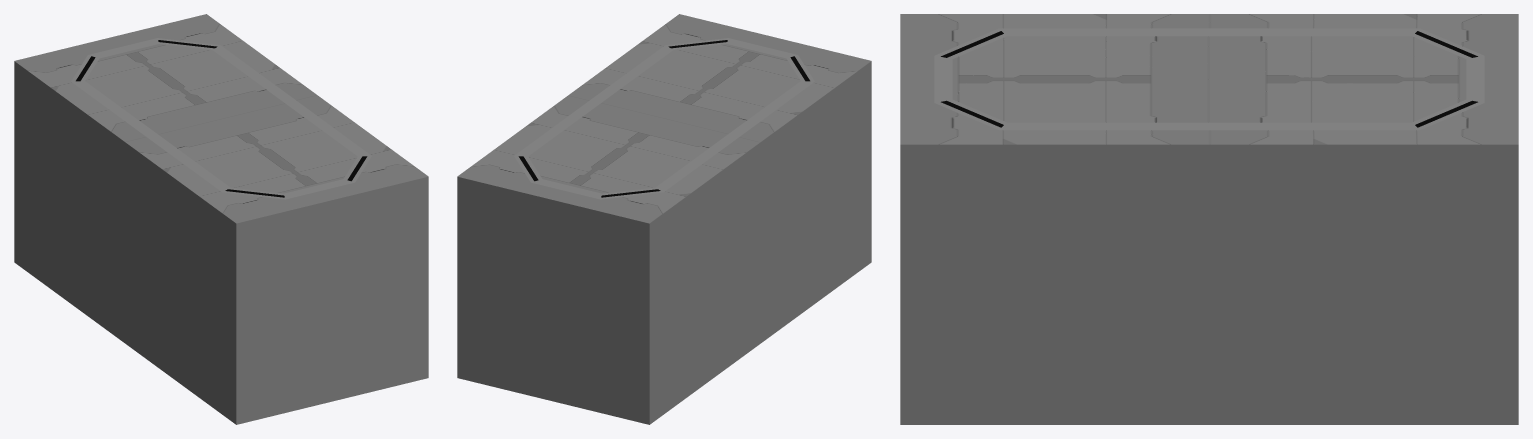
File: SM_Floor_5x10_3.fbx
3 views of the same model, side by side, from view 1: azimuth 30°, elevation 25°; view 2: azimuth 150°, elevation 25°; view 3: azimuth 270°, elevation 25° (orthographic). The views are drawn at different scales.
Visible parts, largest first — view 1: SM_Floor_5x10_3; view 2: SM_Floor_5x10_3; view 3: SM_Floor_5x10_3.
Boxes of the visible parts, box(x1,y1,x2,y2) form: SM_Floor_5x10_3: box(14, 14, 428, 424); SM_Floor_5x10_3: box(457, 14, 871, 424); SM_Floor_5x10_3: box(900, 14, 1518, 424).
Size of the model in its own units: 500 by 500 by 1000.
